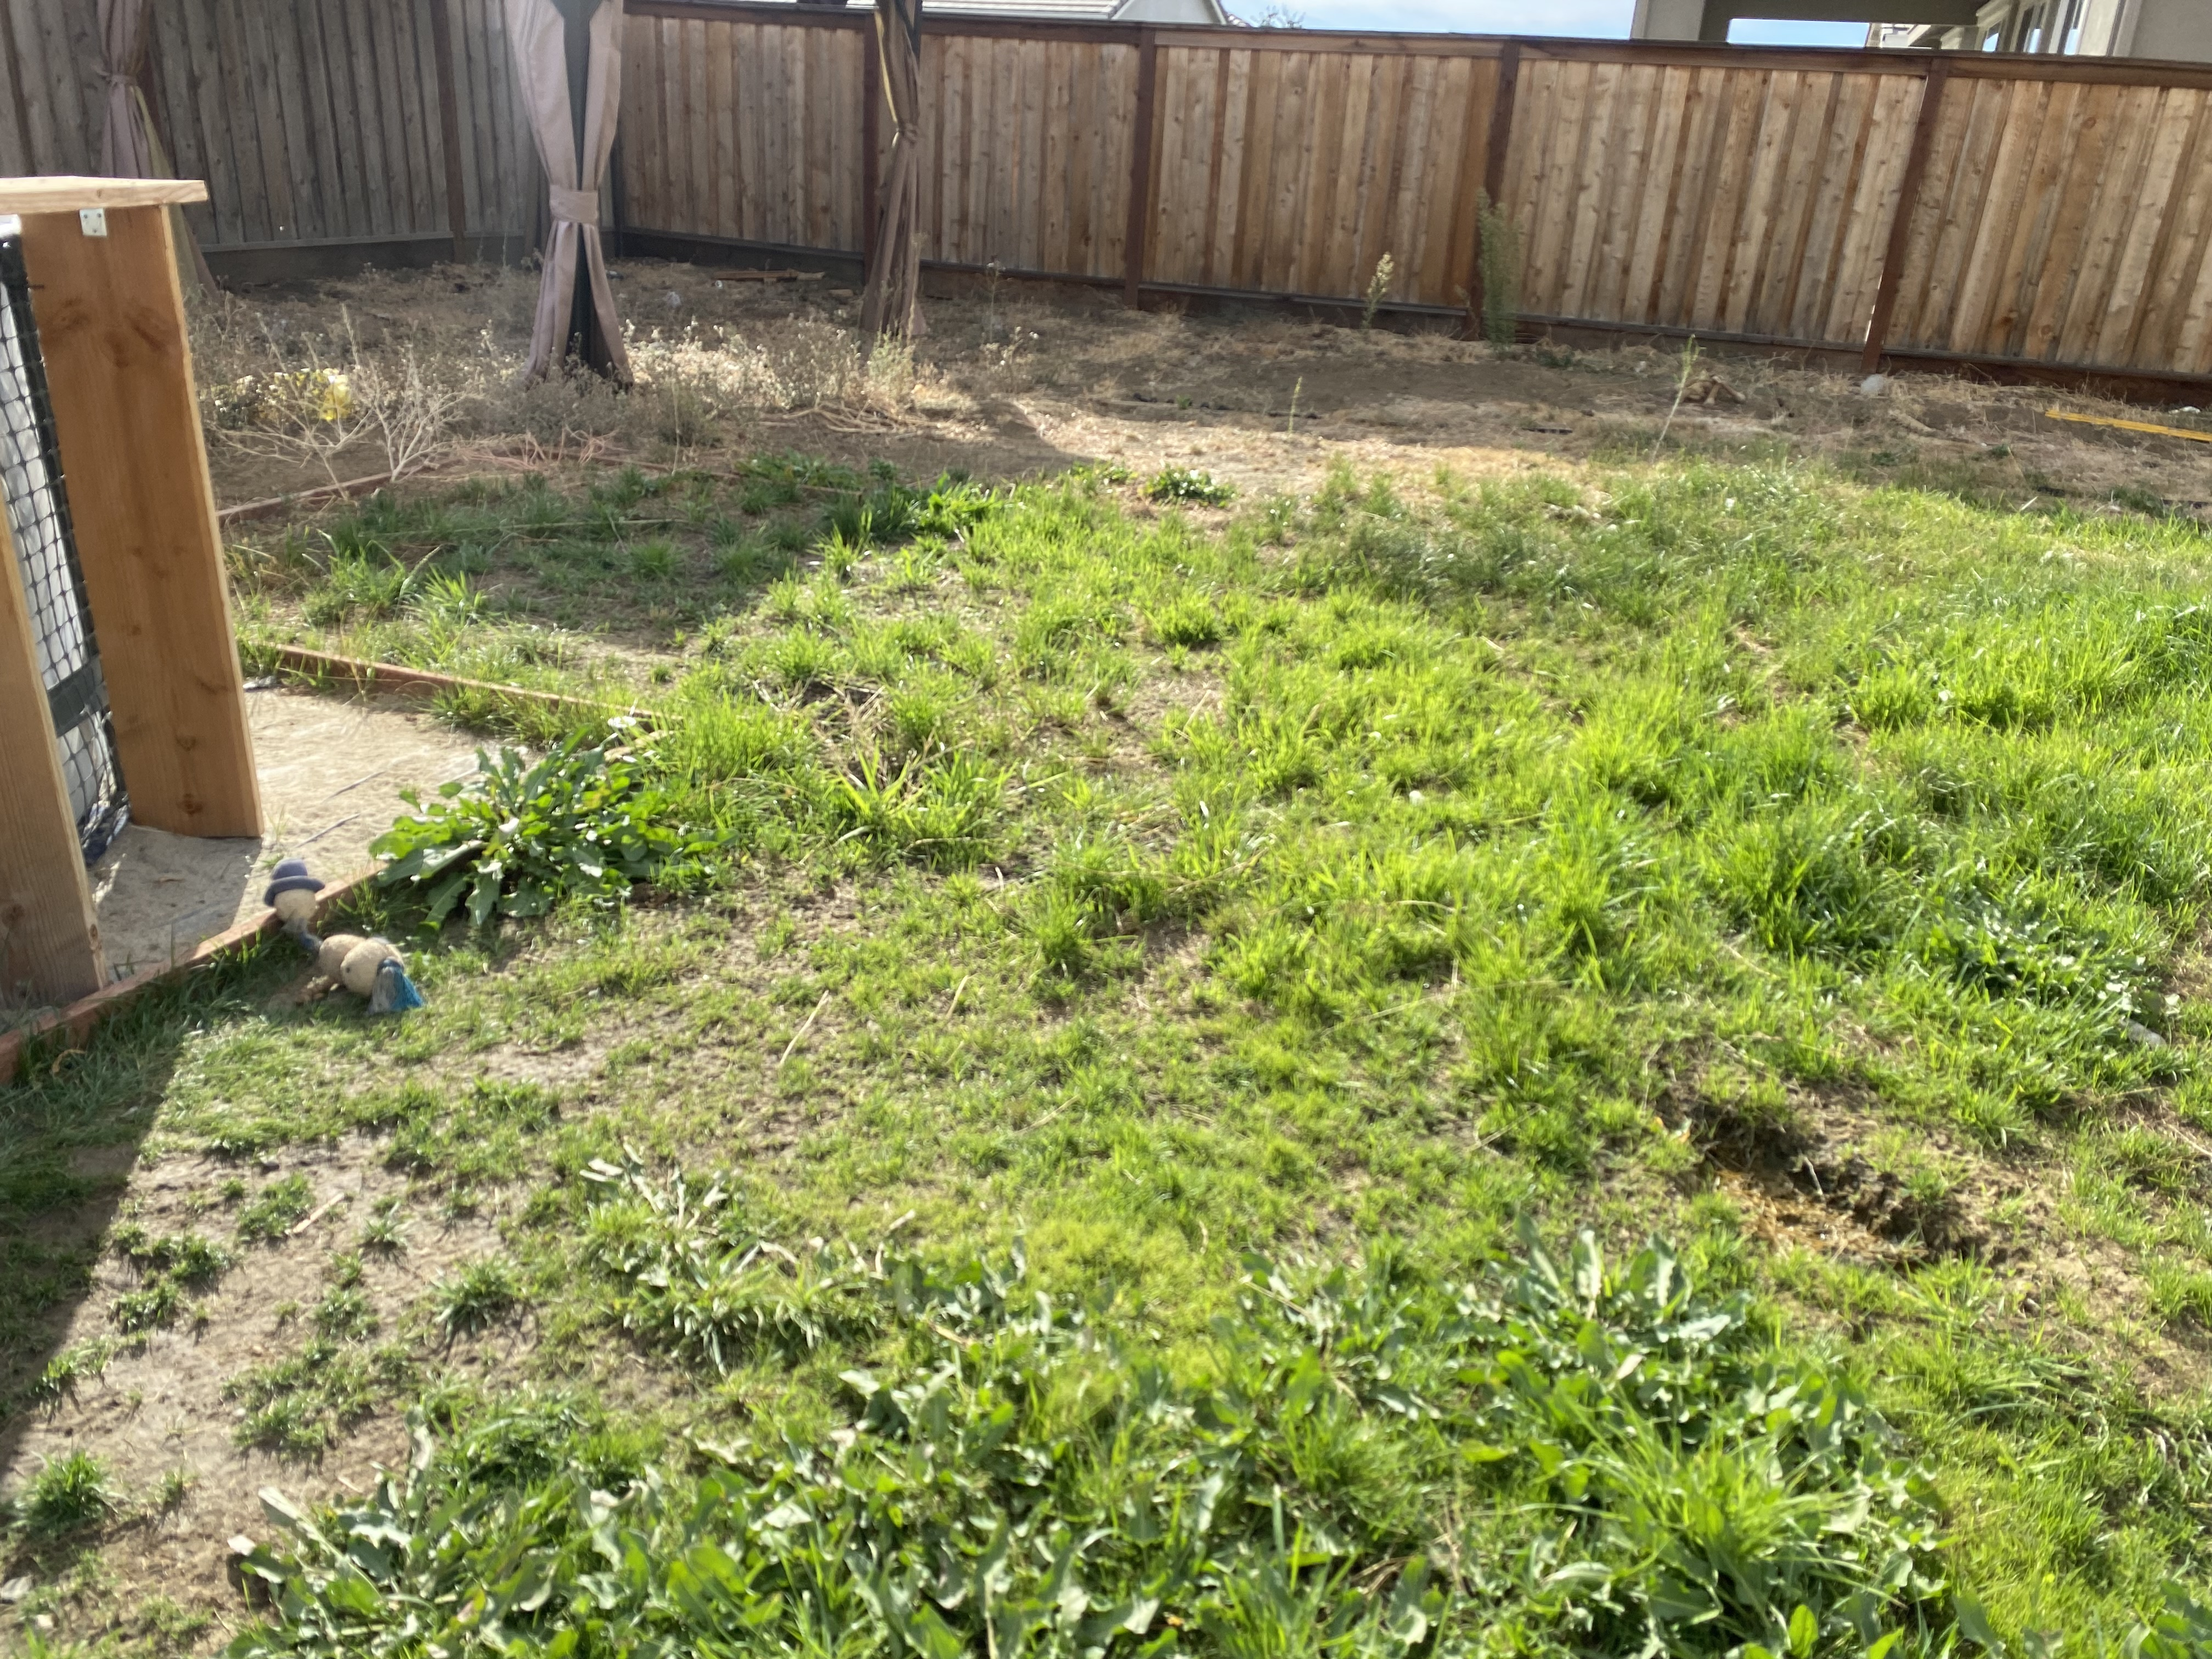weed: (827, 1345, 1266, 1659), (1573, 1347, 1961, 1610), (542, 1424, 874, 1608), (1369, 1248, 1726, 1401), (216, 1455, 568, 1610), (577, 1164, 862, 1338), (383, 755, 657, 915)
